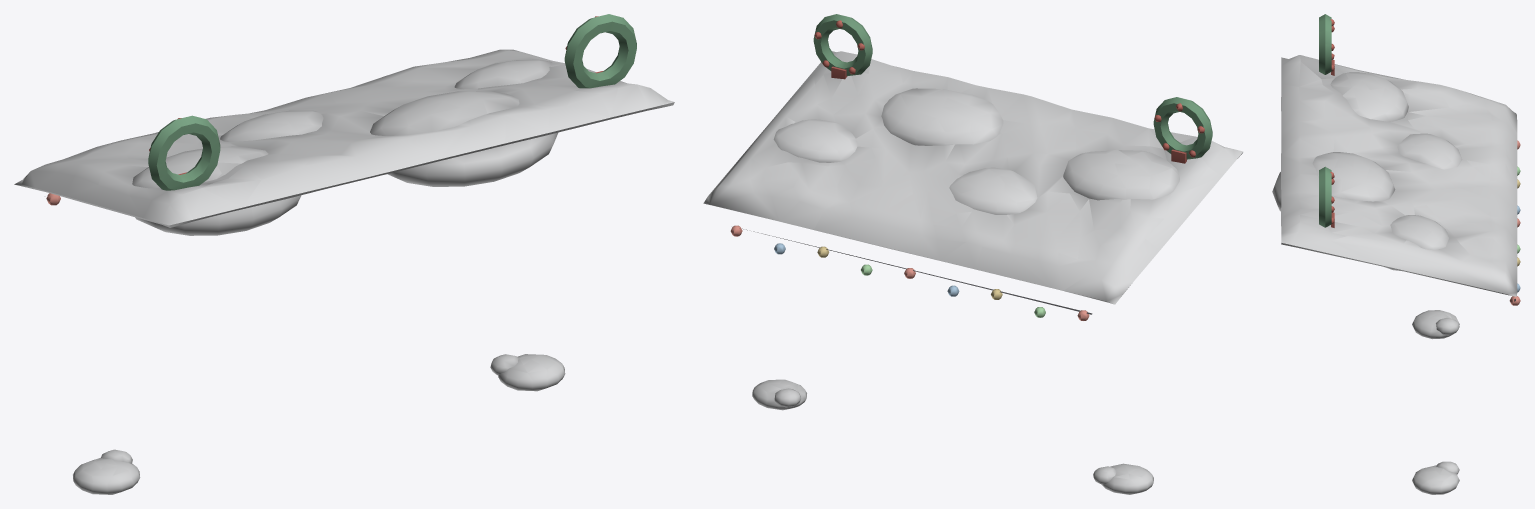
Rendered from xmas_stall_dress_low.glb.
The picture shows the model from 3 angles, left to right: view 1: azimuth 30°, elevation 25°; view 2: azimuth 150°, elevation 25°; view 3: azimuth 270°, elevation 25°; orthographic projection. The views are drawn at different scales.
Bounding box in the file's own units: 2.38 × 1.91 × 1.35.
